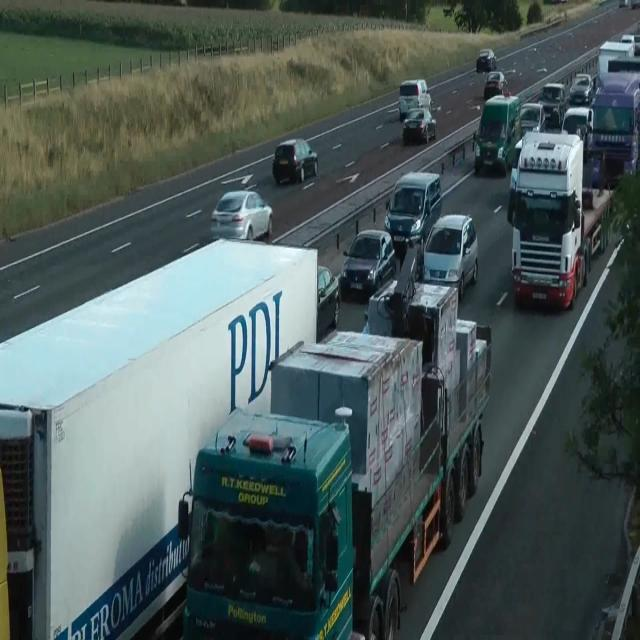bus: (211, 189, 273, 241), (272, 138, 318, 185), (316, 264, 340, 340), (402, 107, 437, 144), (483, 70, 508, 102), (569, 73, 593, 105), (476, 48, 496, 73), (621, 33, 639, 54), (618, 0, 640, 9)
car: (178, 404, 354, 638)
jeep: (419, 212, 479, 300), (384, 170, 442, 252), (339, 228, 396, 300), (472, 94, 521, 174), (398, 77, 432, 121), (518, 101, 544, 137)
minibus: (0, 236, 320, 639), (178, 270, 492, 639), (507, 130, 613, 310), (584, 70, 640, 188)
